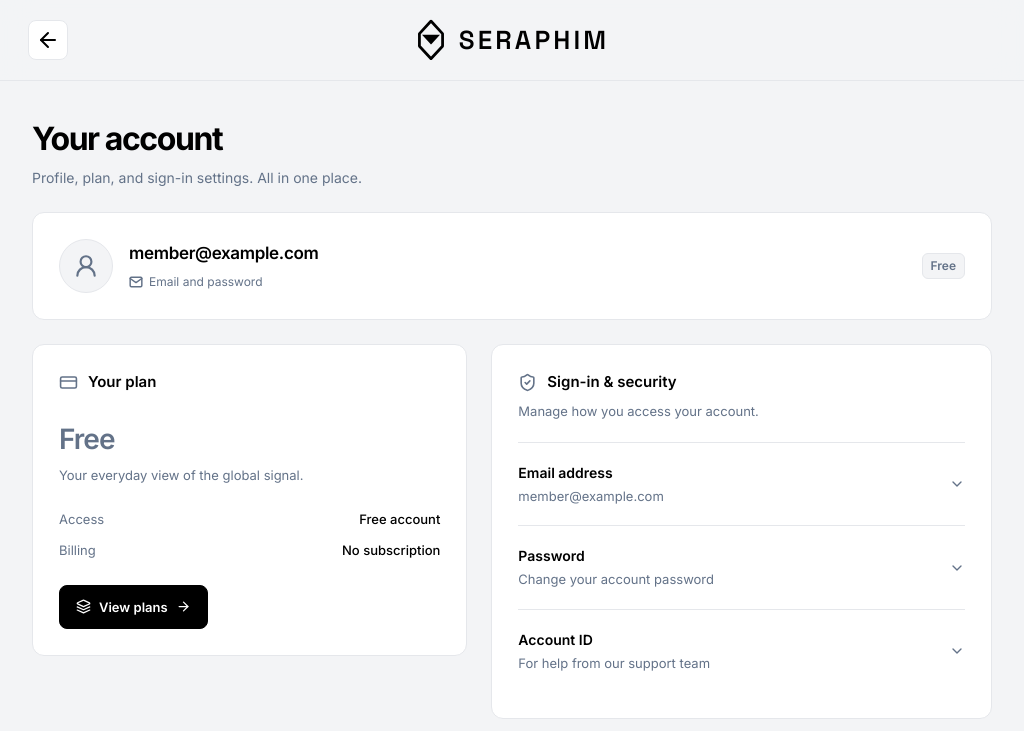
Account page › sends email changes through the existing auth flow and announces confirmation
Click the text "Email address" at (566, 472), box [518,464,613,481]
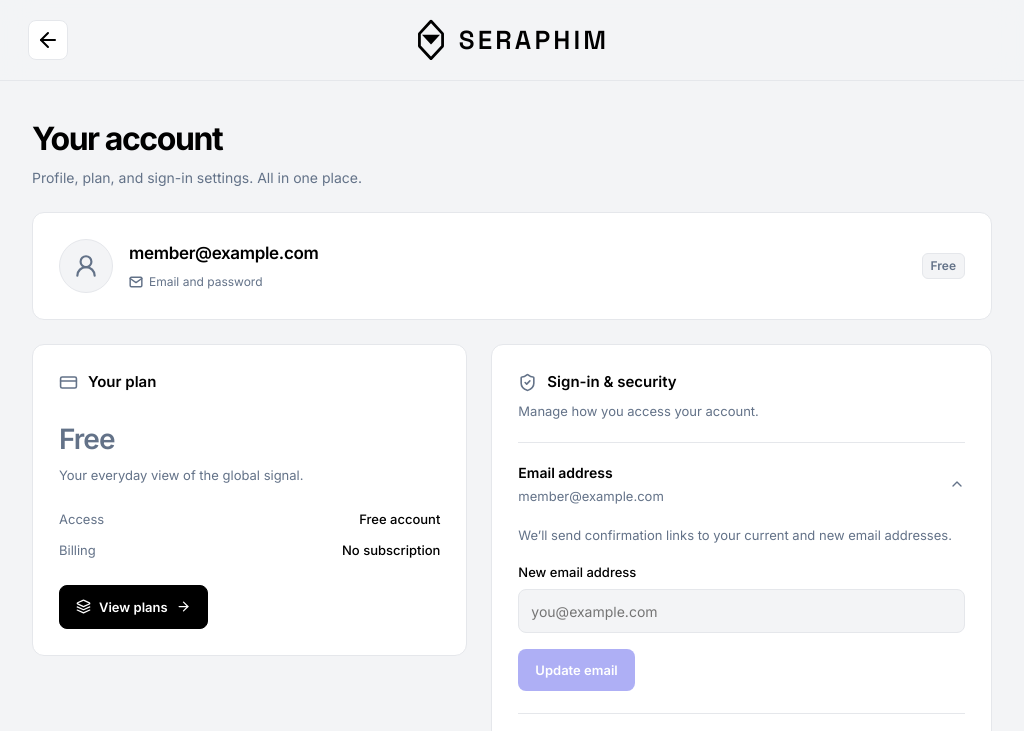
Type "new@example.com" into the field labelled "New email address" at (742, 611), box [518,589,965,633]
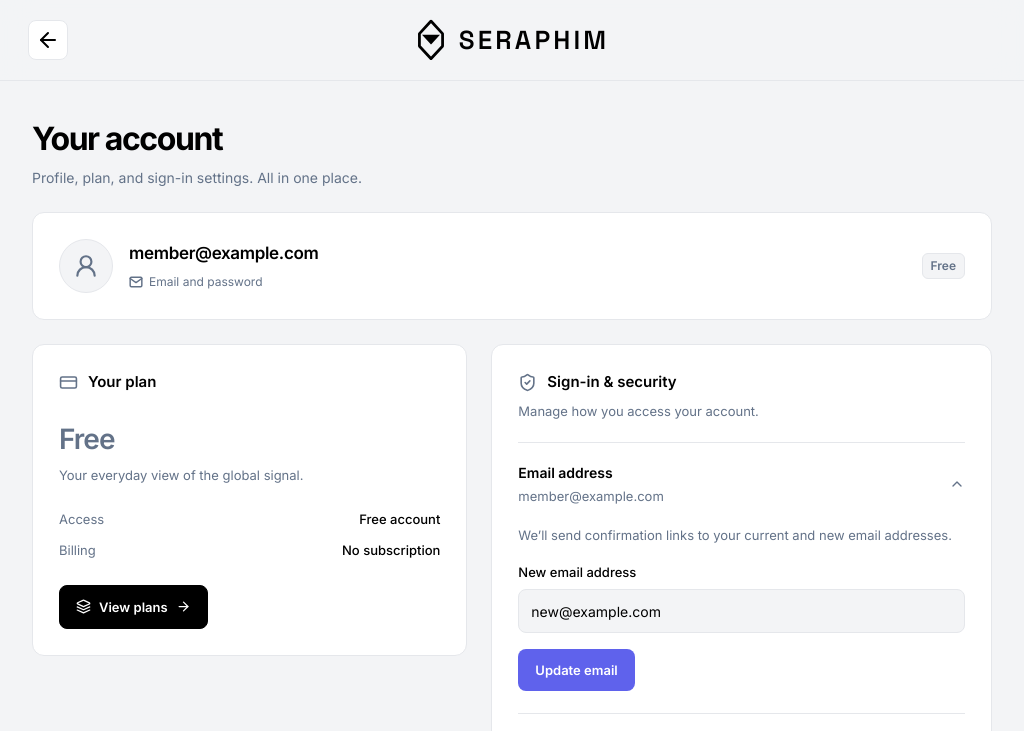
Click the button "Update email" at (576, 670), box [518,649,635,691]
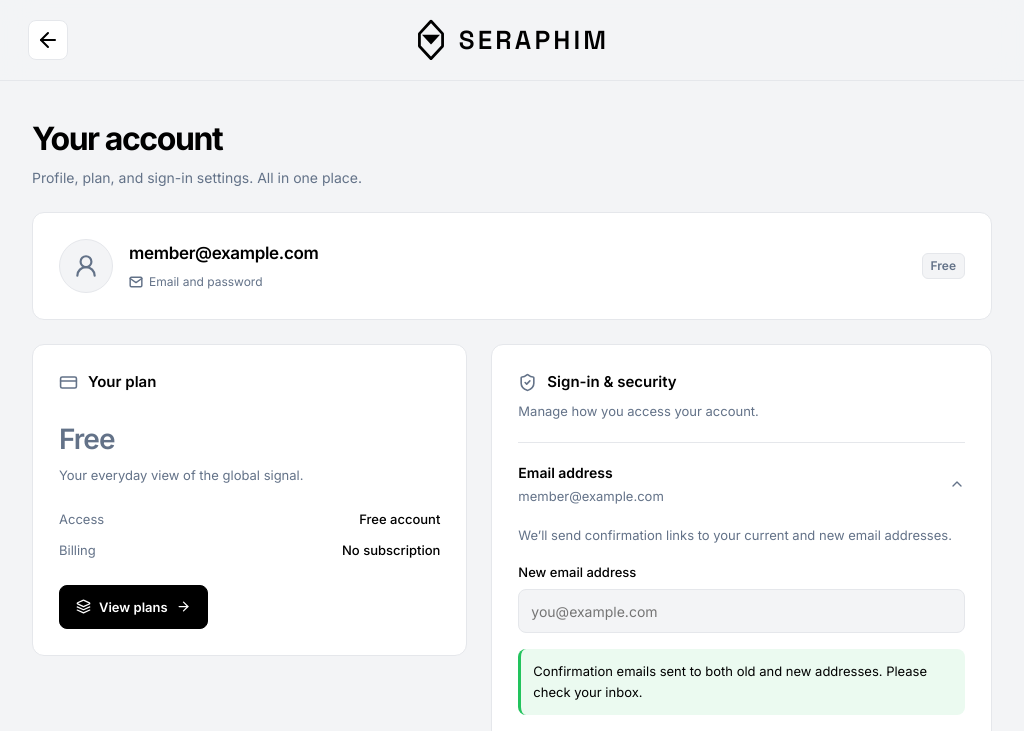
Expected: the text "Confirmation emails sent" is shown, [533,663,927,700]
